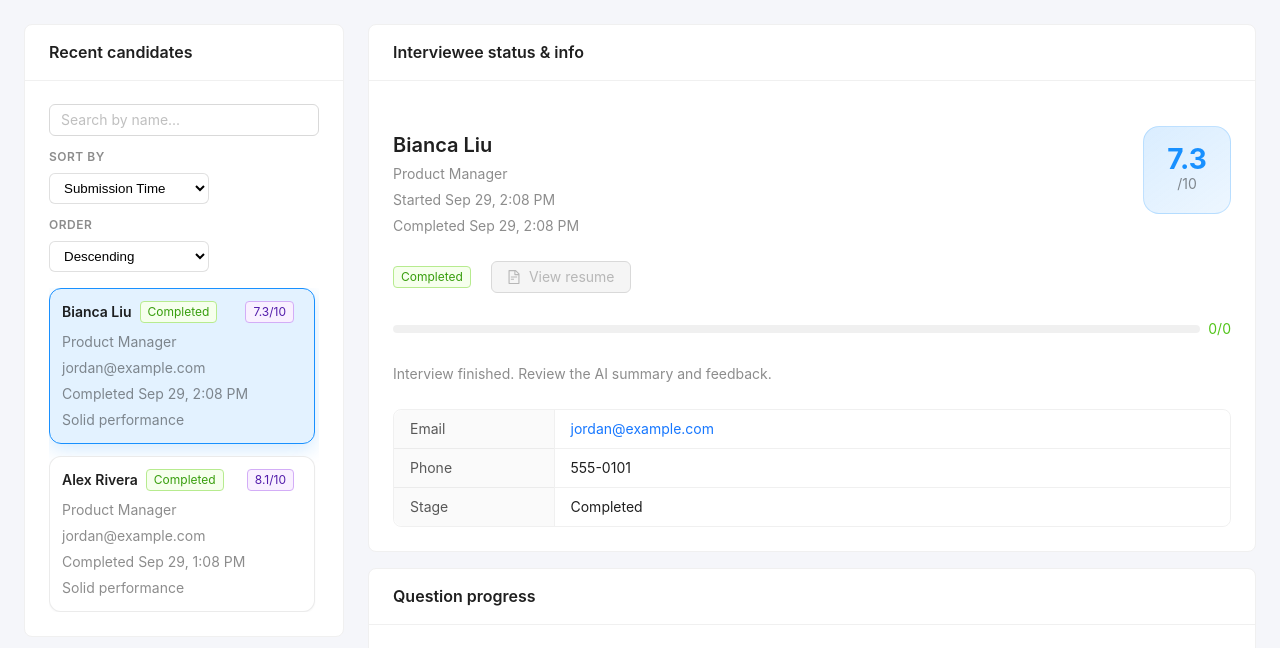
Scenario: InterviewerView › filters candidates via the search control
Expected: the number of buttons with test id "candidate-entry" is 2, [49,288,315,444]; [49,456,315,612]
In the field with placeholder "Search by name...": (176, 120) [61,109,291,131], type "bianca"
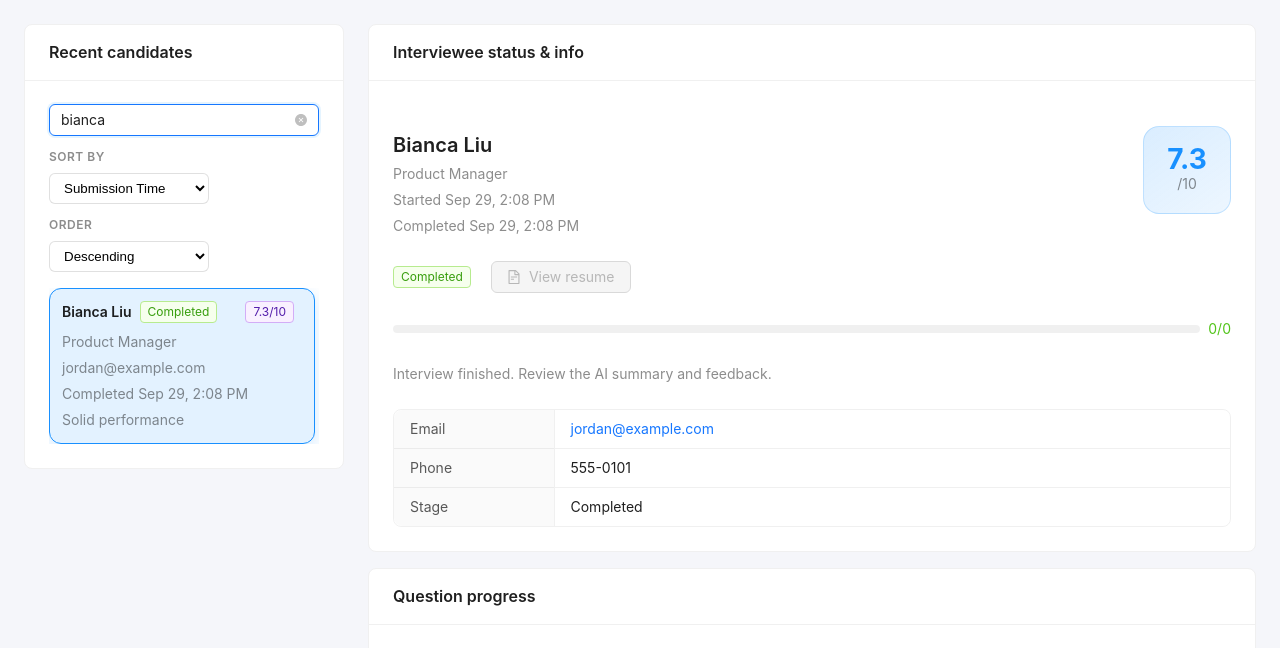
Expected: the button with test id "candidate-entry" shows "Bianca Liu", [49,288,315,444]
Expected: the number of buttons with test id "candidate-entry" is 1, [49,288,315,444]
Clear the field with placeholder "Search by name...": (176, 120) [61,109,291,131]
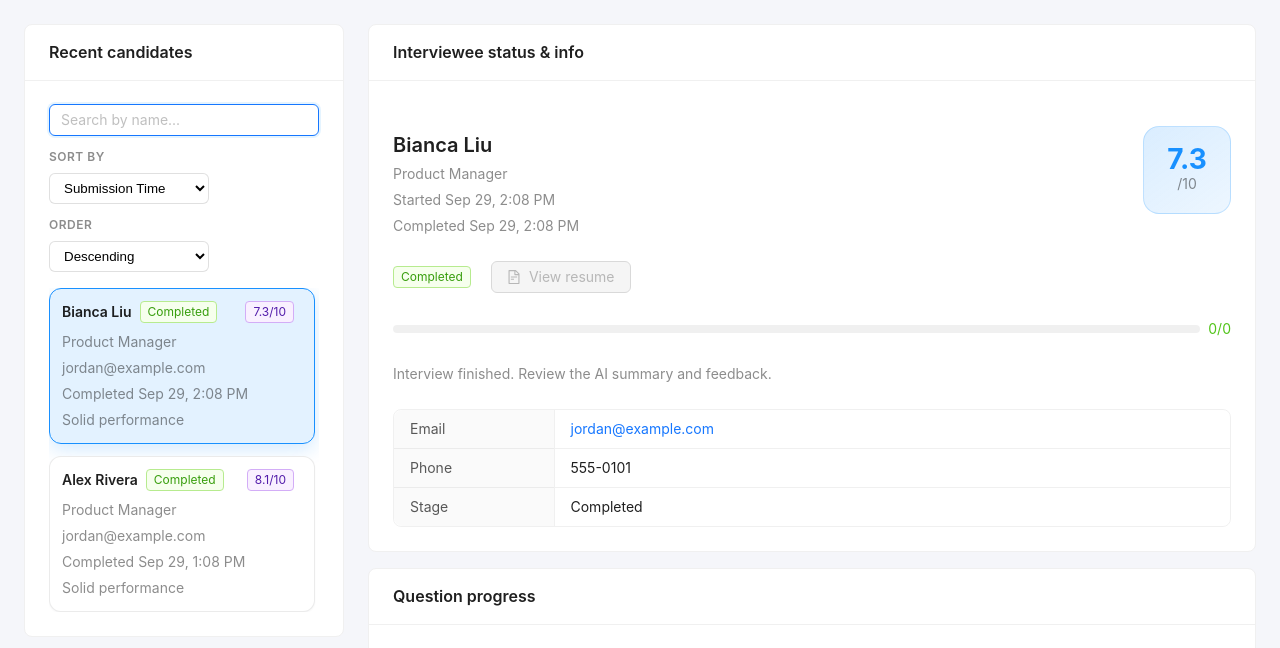
Expected: the number of buttons with test id "candidate-entry" is 2, [49,288,315,444]; [49,456,315,612]
